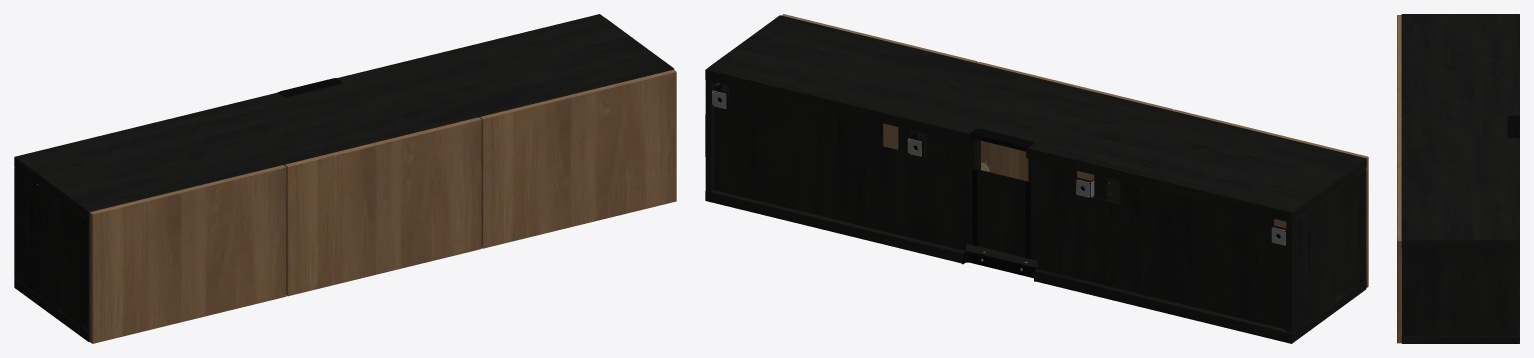
Rendered from 03 - BESTÅ TV bench with doors - black-brownLappviken walnut effect 180x42x38 cm.glb.
3 renders of one model, left to right at view 1: azimuth 30°, elevation 25°; view 2: azimuth 150°, elevation 25°; view 3: azimuth 270°, elevation 25°, orthographic. The views are drawn at different scales.
Parts seen in each view (by area): view 1: 09612171_TV_bench_with_doors.009, 09612171_TV_bench_with_doors.005, 09612171_TV_bench_with_doors.001, 09612171_TV_bench_with_doors.003, 09612171_TV_bench_with_doors.011, 09612171_TV_bench_with_doors.013; view 2: 09612171_TV_bench_with_doors.009, 09612171_TV_bench_with_doors.011, 09612171_TV_bench_with_doors.013, 09612171_TV_bench_with_doors.001, 09612171_TV_bench_with_doors.005, 09612171_TV_bench_with_doors.017, 09612171_TV_bench_with_doors.003, 09612171_TV_bench_with_doors.007; view 3: 09612171_TV_bench_with_doors.009, 09612171_TV_bench_with_doors.011, 09612171_TV_bench_with_doors.003, 09612171_TV_bench_with_doors.007, 09612171_TV_bench_with_doors.001, 09612171_TV_bench_with_doors.005, 09612171_TV_bench_with_doors.013.
Boxes of the visible parts, box(x1,y1,x2,y2) form: 09612171_TV_bench_with_doors.009: box(14, 14, 674, 341); 09612171_TV_bench_with_doors.005: box(89, 165, 286, 343); 09612171_TV_bench_with_doors.001: box(284, 117, 481, 296); 09612171_TV_bench_with_doors.003: box(480, 69, 676, 248); 09612171_TV_bench_with_doors.011: box(14, 157, 89, 341); 09612171_TV_bench_with_doors.013: box(25, 78, 342, 220); 09612171_TV_bench_with_doors.009: box(705, 15, 1366, 343); 09612171_TV_bench_with_doors.011: box(705, 70, 1366, 343); 09612171_TV_bench_with_doors.013: box(711, 83, 1352, 281); 09612171_TV_bench_with_doors.001: box(977, 61, 1173, 197); 09612171_TV_bench_with_doors.005: box(1173, 109, 1368, 287); 09612171_TV_bench_with_doors.017: box(712, 90, 1285, 271); 09612171_TV_bench_with_doors.003: box(782, 14, 977, 149); 09612171_TV_bench_with_doors.007: box(705, 52, 1366, 340); 09612171_TV_bench_with_doors.009: box(1401, 14, 1519, 343); 09612171_TV_bench_with_doors.011: box(1402, 14, 1519, 343); 09612171_TV_bench_with_doors.003: box(1397, 165, 1401, 343); 09612171_TV_bench_with_doors.007: box(1402, 138, 1519, 343); 09612171_TV_bench_with_doors.001: box(1397, 90, 1401, 165); 09612171_TV_bench_with_doors.005: box(1397, 15, 1401, 90); 09612171_TV_bench_with_doors.013: box(1507, 115, 1519, 256).
Size of the model in its own units: 1.8 by 0.3875 by 0.4121.
Materials: 1 (1 with a texture image).
